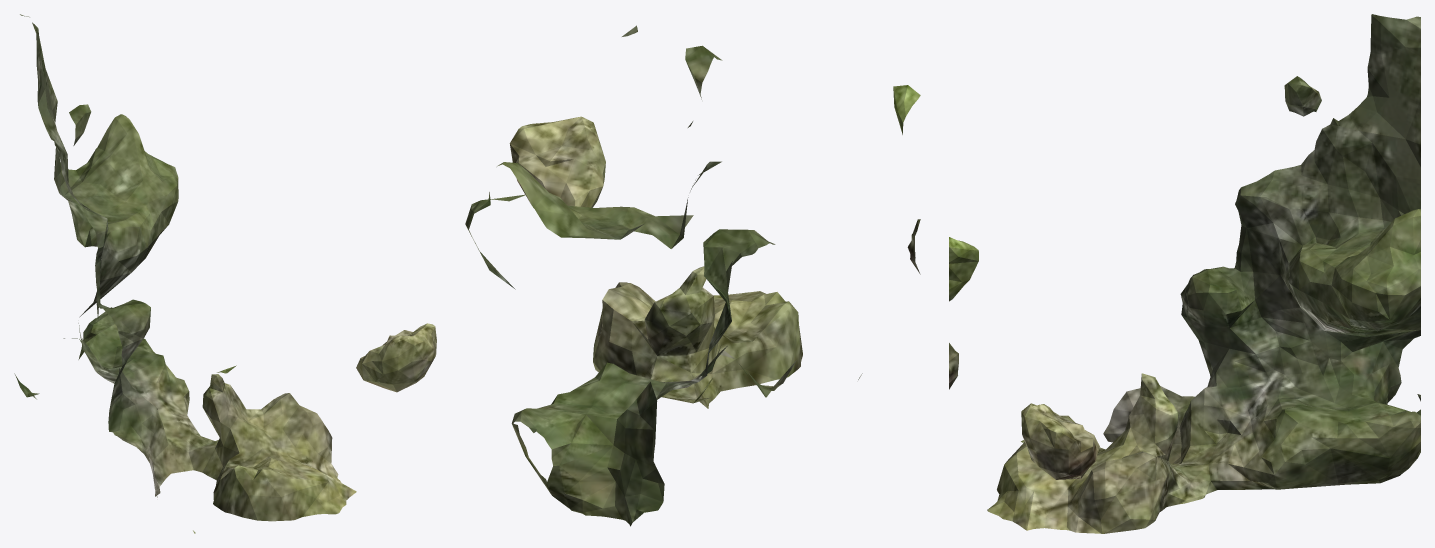
3 views of the same model, side by side, from view 1: azimuth 30°, elevation 25°; view 2: azimuth 150°, elevation 25°; view 3: azimuth 270°, elevation 25° (orthographic). The views are drawn at different scales.
Bounding box in the file's own units: 2.07 × 2.95 × 2.95.
2 materials, 2 textured.
